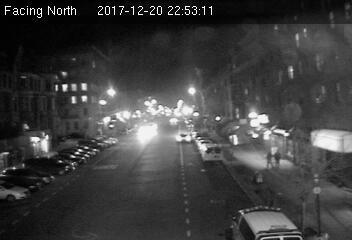car: (176, 131, 192, 144)
police: (229, 199, 306, 239)
truck: (202, 144, 223, 163)
